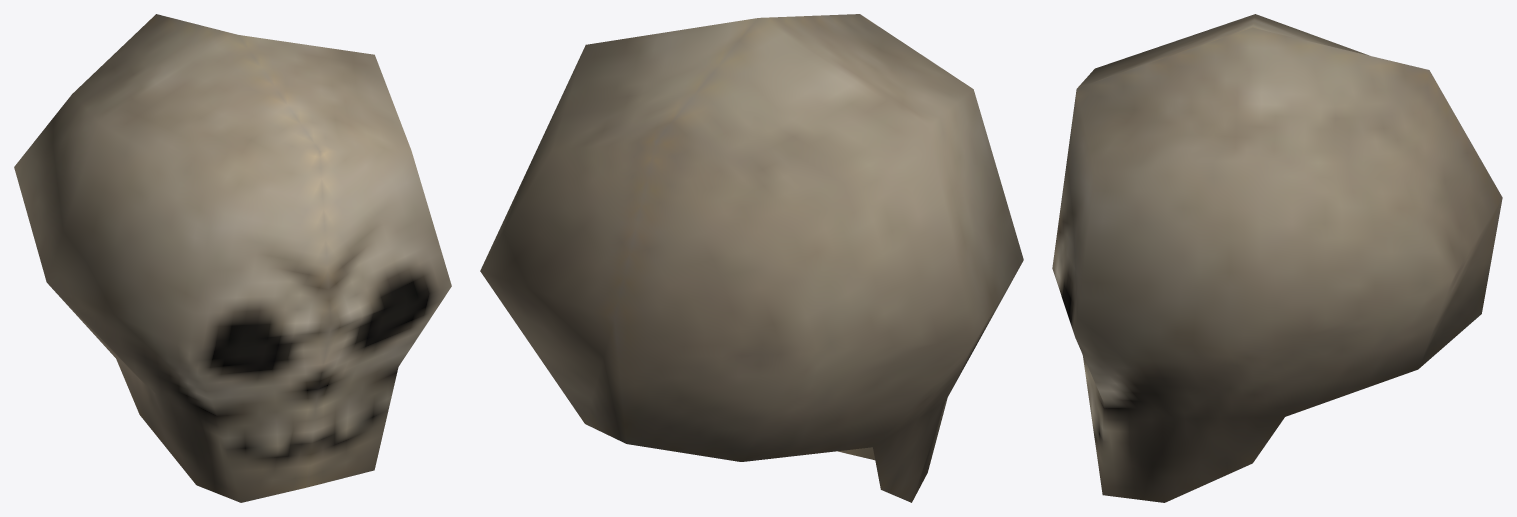
The model's file is etc_prop_12.FBX.
3 views of the same model, side by side, from view 1: azimuth 30°, elevation 25°; view 2: azimuth 150°, elevation 25°; view 3: azimuth 270°, elevation 25° (orthographic). The views are drawn at different scales.
Parts seen in each view (by area): view 1: etc_prop_12; view 2: etc_prop_12; view 3: etc_prop_12.
Boxes of the visible parts, x1,y1,x2,y2 form: etc_prop_12: [14, 14, 451, 502]; etc_prop_12: [480, 14, 1023, 502]; etc_prop_12: [1052, 14, 1502, 502].
Size of the model in its own units: 13.86 by 14.55 by 13.72.
